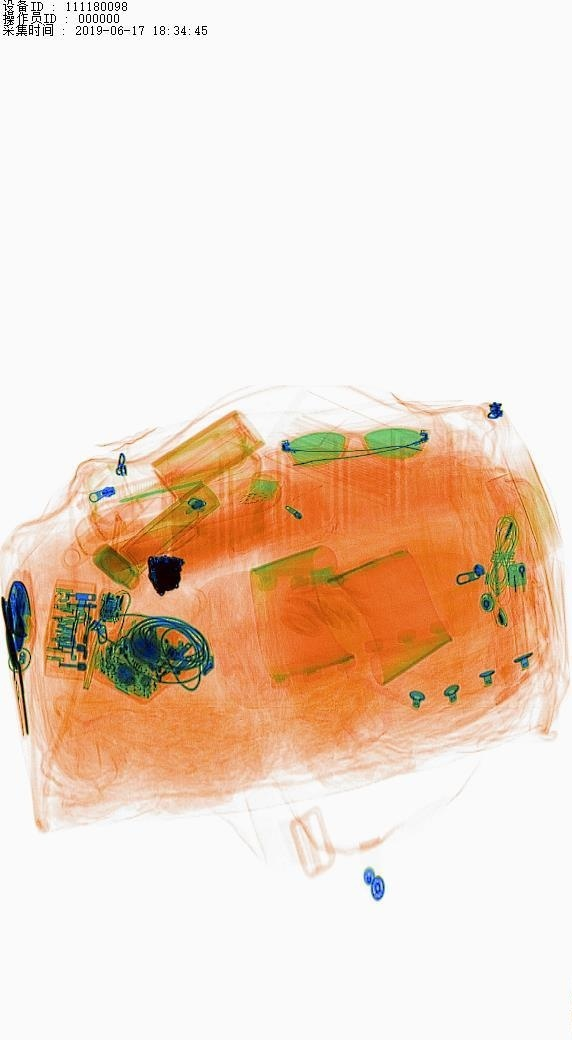NonmetallicFire: (494, 554, 552, 667)
